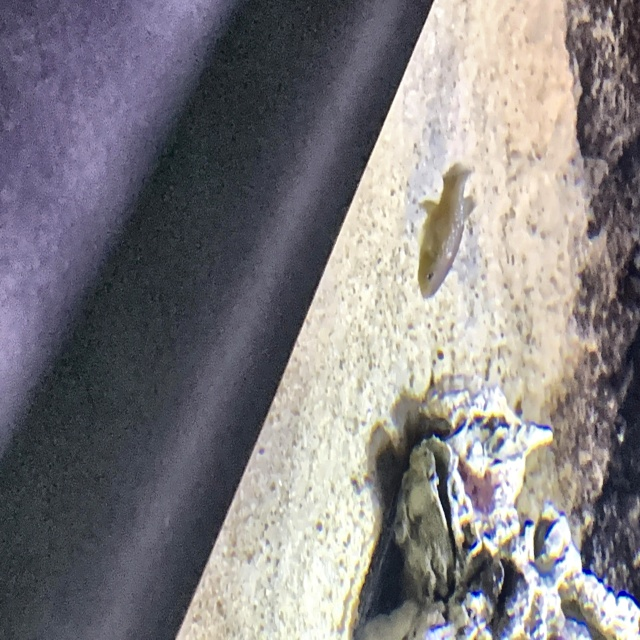fish: (412, 161, 481, 301)
